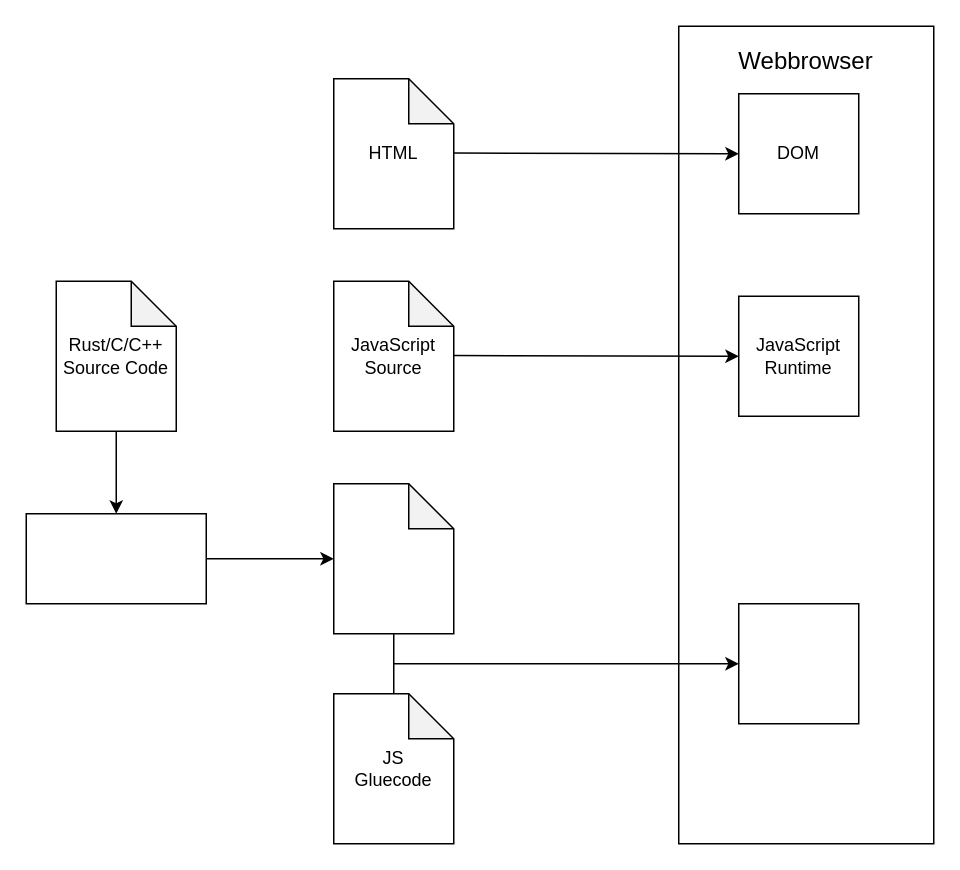
This 960x870 diagram has some shape labels left out. The centre of each missing label's shape, as x and y in pixels:
.wasm Bytecode: pixel 393 558
Compiler: pixel 115 558
WASM Runtime: pixel 798 663
